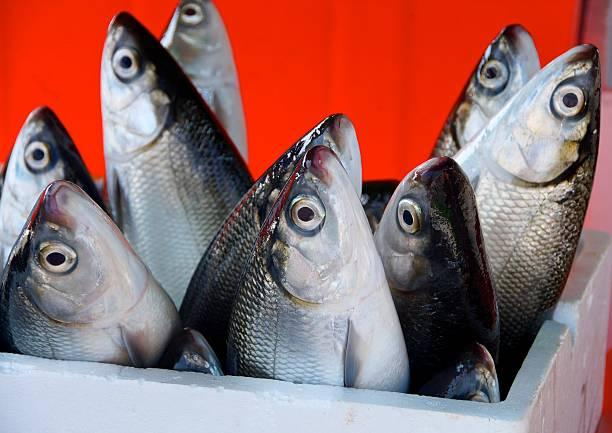Bangus: (226, 148, 416, 380), (97, 7, 260, 262), (0, 179, 194, 368), (482, 42, 612, 293), (0, 98, 97, 211)
